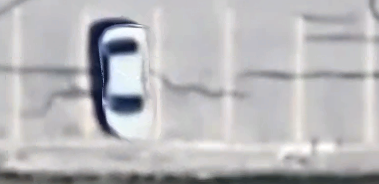Occupied: (85, 8, 159, 145)
Vacant: (299, 10, 370, 150), (15, 8, 86, 146), (158, 8, 228, 146), (228, 10, 298, 148)
